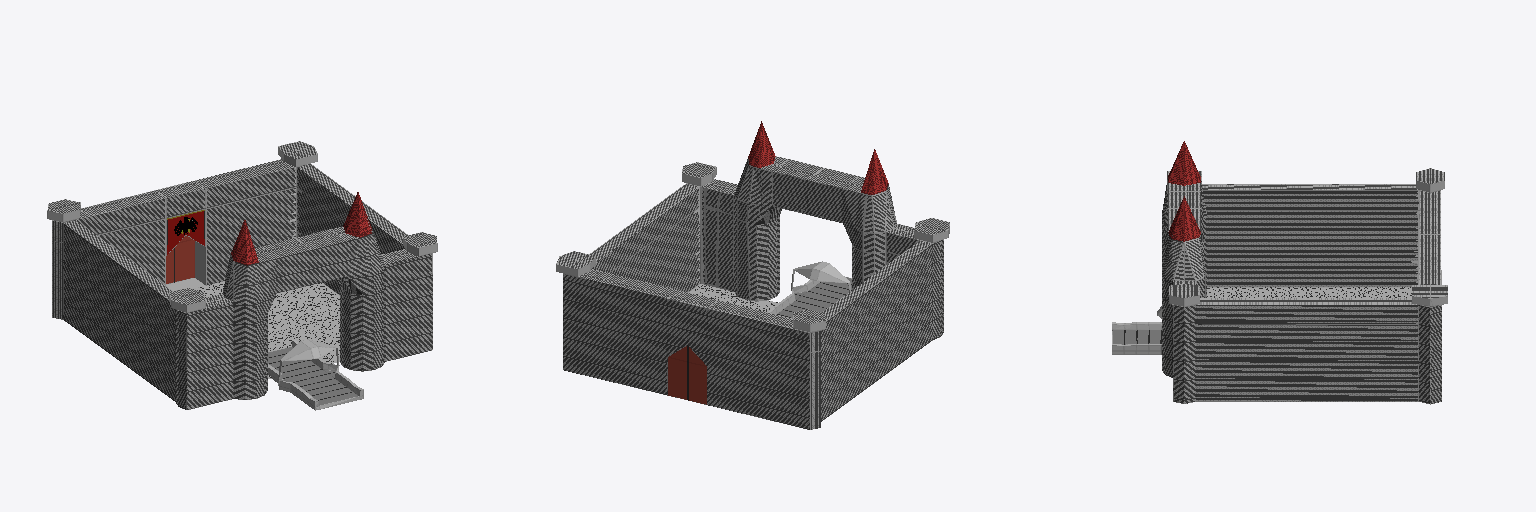
3 views of the same model, side by side, from view 1: azimuth 30°, elevation 25°; view 2: azimuth 150°, elevation 25°; view 3: azimuth 270°, elevation 25° (orthographic).
Parts seen in each view (by area): view 1: 平面; view 2: 平面; view 3: 平面.
Part boxes in pixels (x1,y1,x2,y2): 平面: (47, 141, 437, 410); 平面: (556, 121, 949, 429); 平面: (1112, 141, 1447, 404).
Size of the model in its own units: 159 by 99.19 by 174.
Materials: 1 (1 with a texture image).